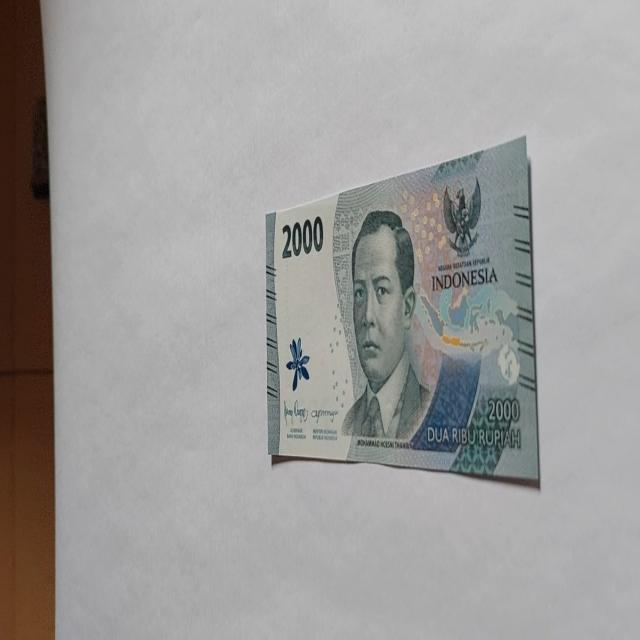dua ribu rupiah: (264, 134, 540, 486), (340, 208, 432, 444)
